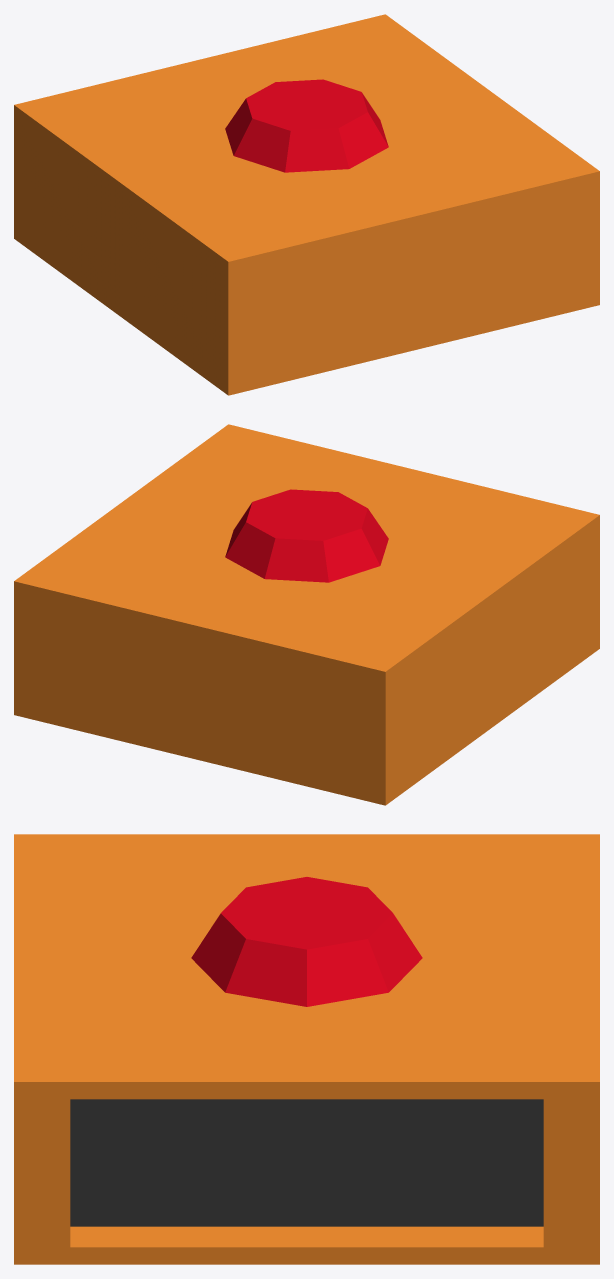
File: Despertador.fbx
3 views of the same model, one above another, from view 1: azimuth 30°, elevation 25°; view 2: azimuth 150°, elevation 25°; view 3: azimuth 270°, elevation 25° (orthographic). The views are drawn at different scales.
Parts seen in each view (by area): view 1: Despertador; view 2: Despertador; view 3: Despertador.
Part boxes in pixels (box(x1,y1,x2,y2)): Despertador: box(14, 14, 599, 395); Despertador: box(14, 424, 599, 805); Despertador: box(14, 834, 599, 1264).
Size of the model in its own units: 99.79 by 99.79 by 42.78.
